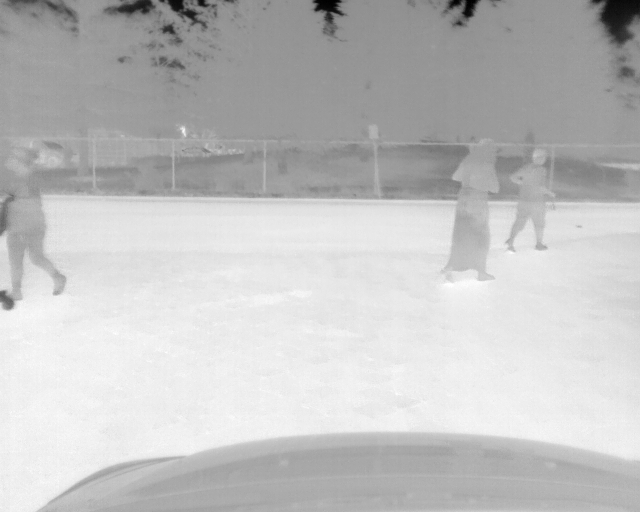people: (1, 147, 67, 300), (440, 140, 498, 282), (505, 148, 556, 253)
